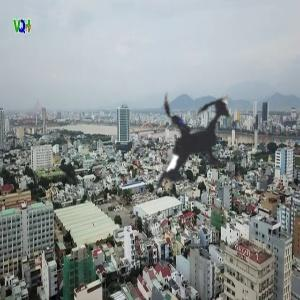drone: (89, 45, 286, 242)
